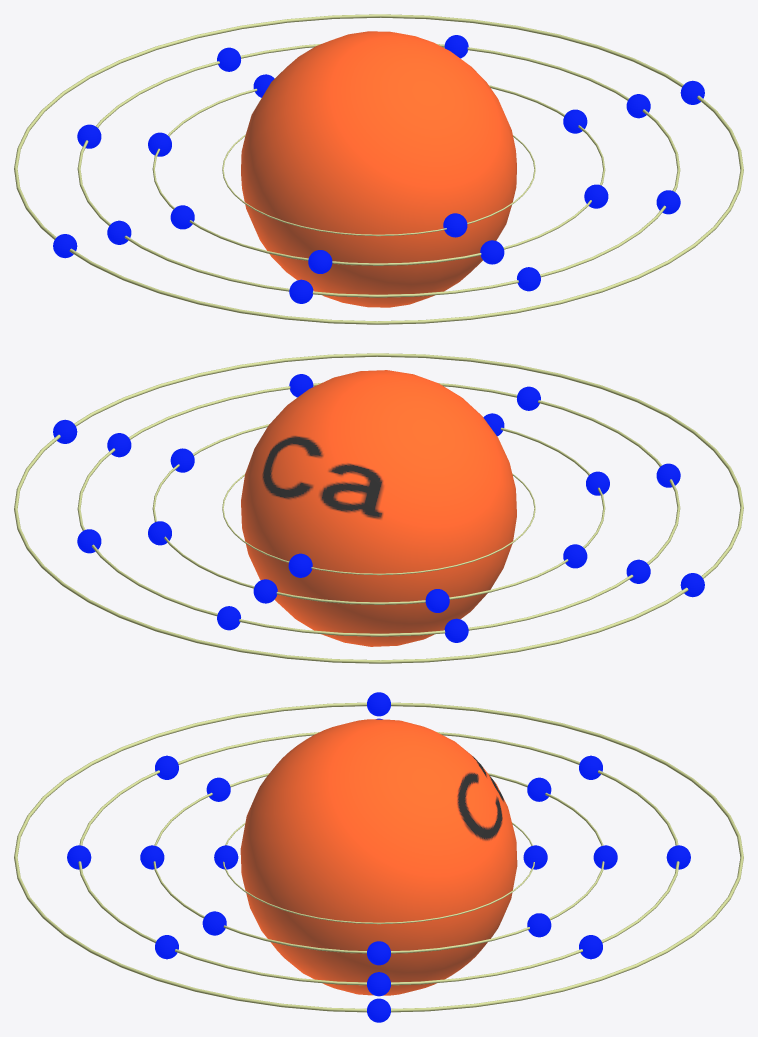
The picture shows the model from 3 angles, top to bottom: view 1: azimuth 30°, elevation 25°; view 2: azimuth 150°, elevation 25°; view 3: azimuth 270°, elevation 25°; orthographic projection.
Visible parts, largest first — view 1: 球体, 贝塞尔圆环.003, 贝塞尔圆环.002, 贝塞尔圆环.001, 贝塞尔圆环; view 2: 球体, 贝塞尔圆环.003, 贝塞尔圆环.002, 贝塞尔圆环.001, 贝塞尔圆环; view 3: 球体, 贝塞尔圆环.003, 贝塞尔圆环.002, 贝塞尔圆环.001, 贝塞尔圆环.
Part boxes in pixels (x1=…): 球体: x1=241, y1=31, x2=516, y2=307; 贝塞尔圆环.003: x1=14, y1=14, x2=743, y2=324; 贝塞尔圆环.002: x1=77, y1=44, x2=680, y2=297; 贝塞尔圆环.001: x1=152, y1=85, x2=605, y2=265; 贝塞尔圆环: x1=222, y1=134, x2=535, y2=236; 球体: x1=241, y1=370, x2=516, y2=646; 贝塞尔圆环.003: x1=14, y1=353, x2=743, y2=663; 贝塞尔圆环.002: x1=77, y1=383, x2=680, y2=636; 贝塞尔圆环.001: x1=152, y1=424, x2=605, y2=604; 贝塞尔圆环: x1=222, y1=473, x2=535, y2=575; 球体: x1=240, y1=719, x2=517, y2=995; 贝塞尔圆环.003: x1=14, y1=702, x2=743, y2=1012; 贝塞尔圆环.002: x1=78, y1=732, x2=679, y2=985; 贝塞尔圆环.001: x1=153, y1=773, x2=604, y2=953; 贝塞尔圆环: x1=223, y1=822, x2=534, y2=924.
Bounding box in the file's own units: 2.91 × 1.07 × 2.84.
13 materials, 1 textured.
